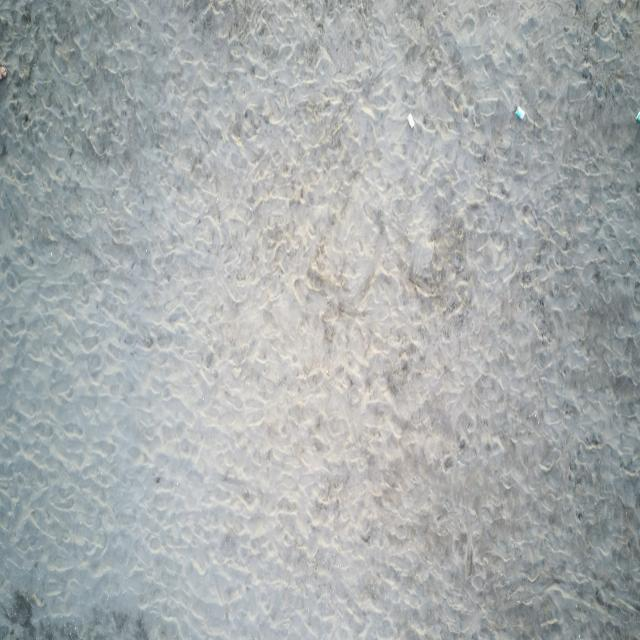Garbage: (515, 105, 524, 119), (0, 64, 7, 79), (407, 112, 413, 128), (635, 111, 639, 123)
